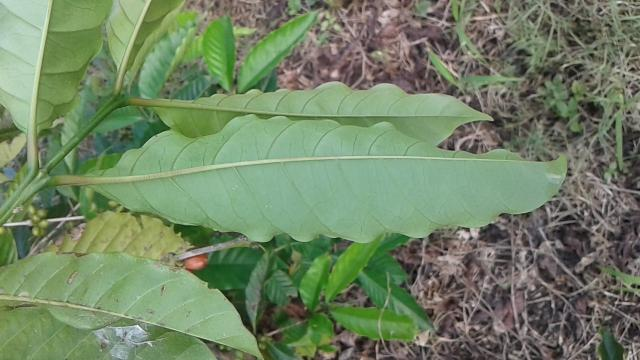healthy: (85, 114, 566, 243)
